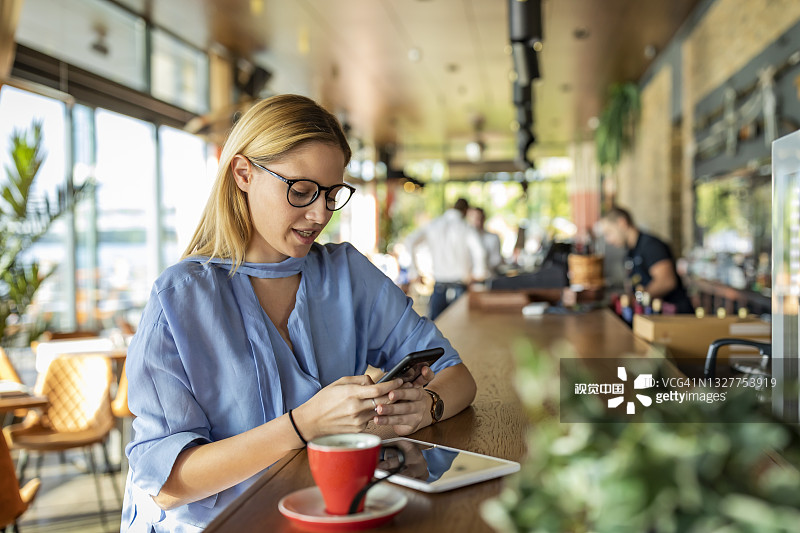reading: (292, 345, 442, 446)
